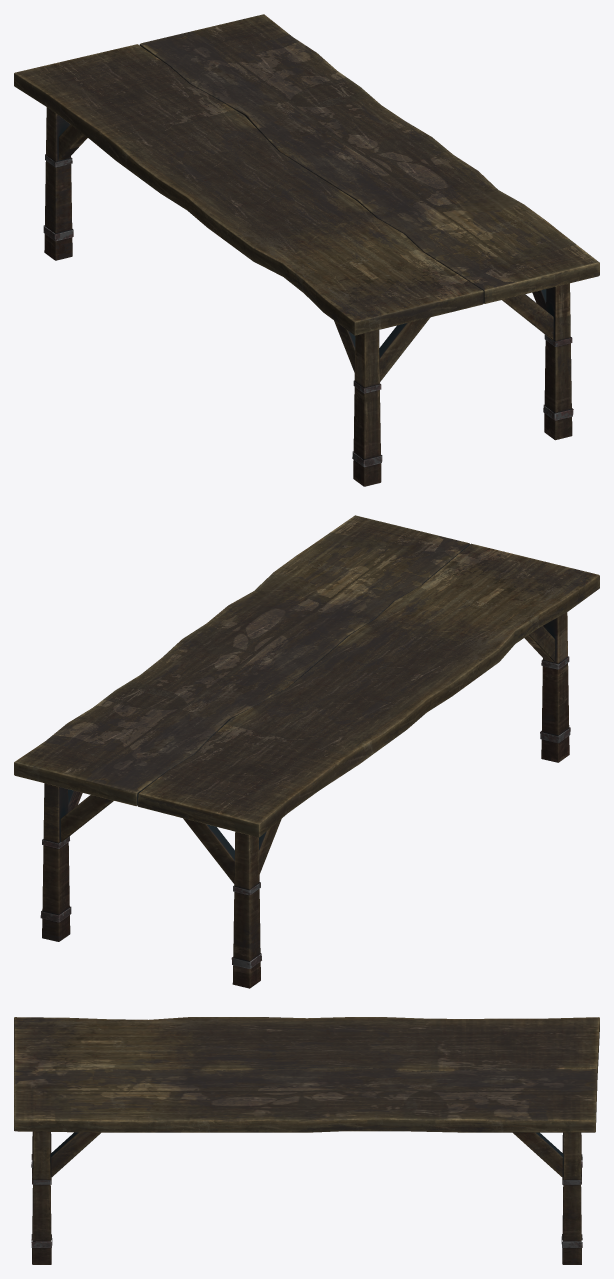
The model's file is SM_Table_Big.fbx.
The picture shows the model from 3 angles, top to bottom: view 1: azimuth 30°, elevation 25°; view 2: azimuth 150°, elevation 25°; view 3: azimuth 270°, elevation 25°; orthographic projection. The views are drawn at different scales.
Parts seen in each view (by area): view 1: SM_Table_Big_LOD0; view 2: SM_Table_Big_LOD0; view 3: SM_Table_Big_LOD0.
Part boxes in pixels (x1=…): SM_Table_Big_LOD0: x1=14, y1=14, x2=599, y2=486; SM_Table_Big_LOD0: x1=14, y1=515, x2=599, y2=988; SM_Table_Big_LOD0: x1=14, y1=1017, x2=599, y2=1264.
Bounding box in the file's own units: 108 × 256 × 73.43.
1 material, 1 textured.
